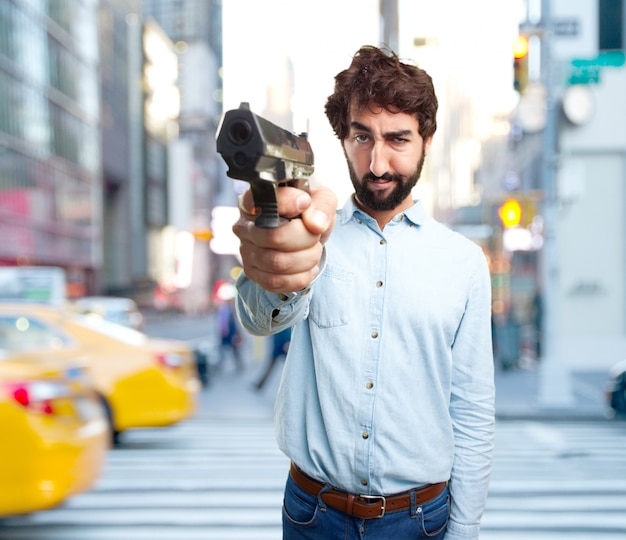gun: (213, 102, 315, 230)
